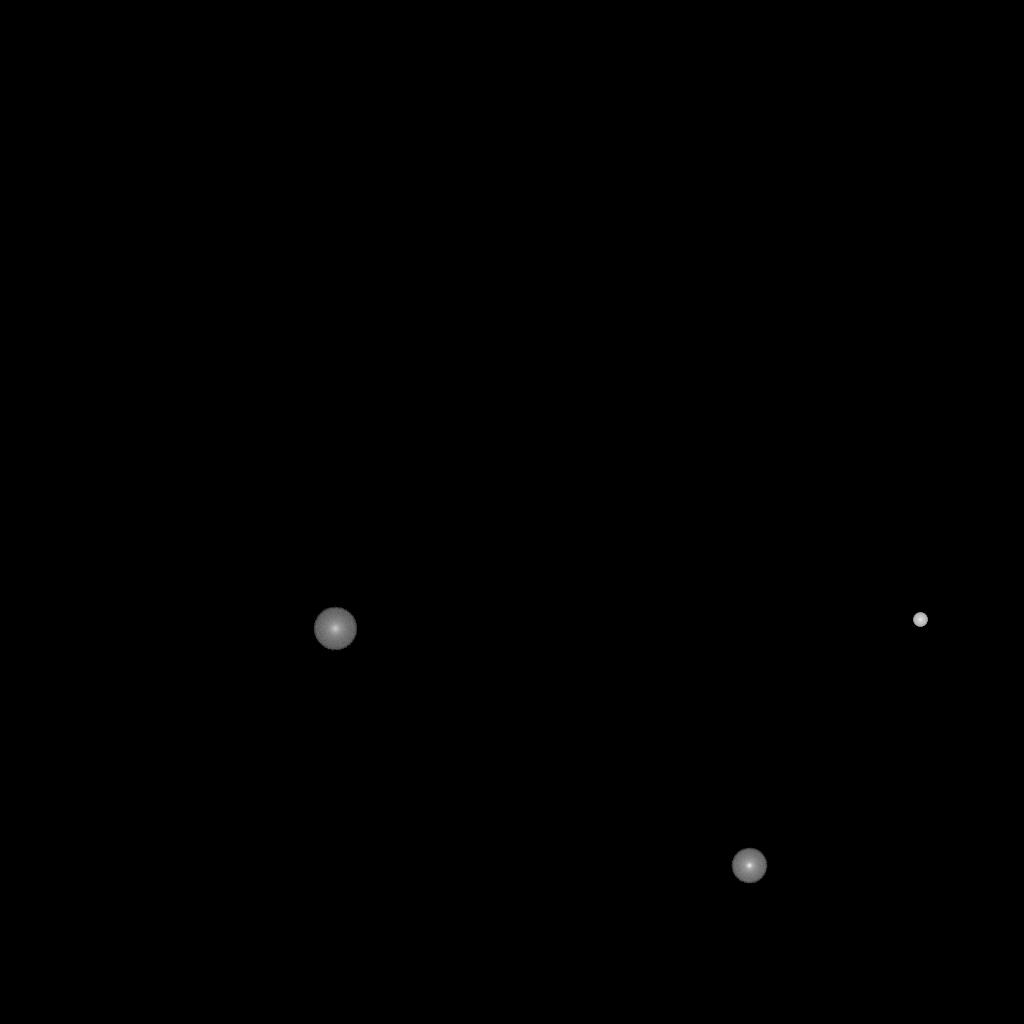depth:-30: (913, 613, 927, 627)
depth:0: (731, 848, 767, 884)
depth:10: (313, 607, 357, 651)
